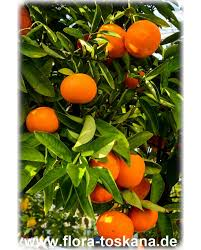orange: (125, 18, 162, 58), (82, 149, 120, 183), (93, 210, 135, 240), (92, 24, 127, 58), (116, 151, 146, 188), (61, 74, 99, 102), (126, 201, 160, 231), (24, 109, 59, 133), (83, 182, 115, 205), (126, 179, 155, 199)
